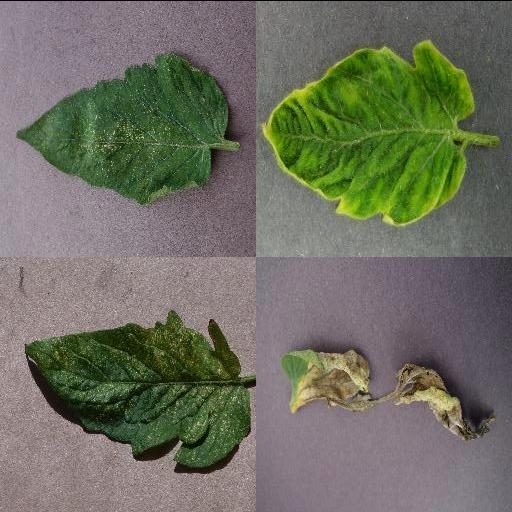Late Blight: (280, 343, 494, 439)
Spider Mites: (25, 309, 251, 467), (14, 52, 228, 202)
Yellow Leaf Curl Virus: (261, 38, 473, 223)
